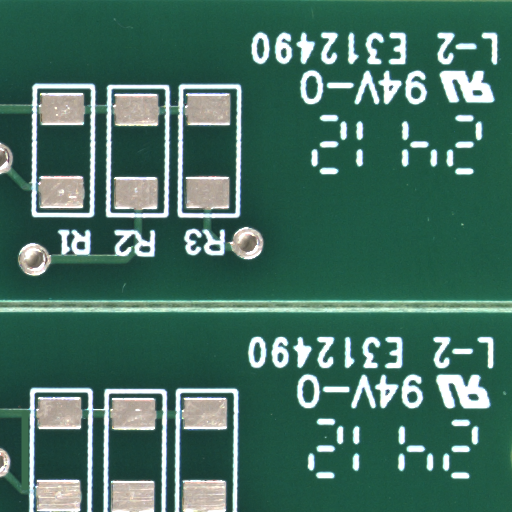Short: (24, 451, 37, 512)
